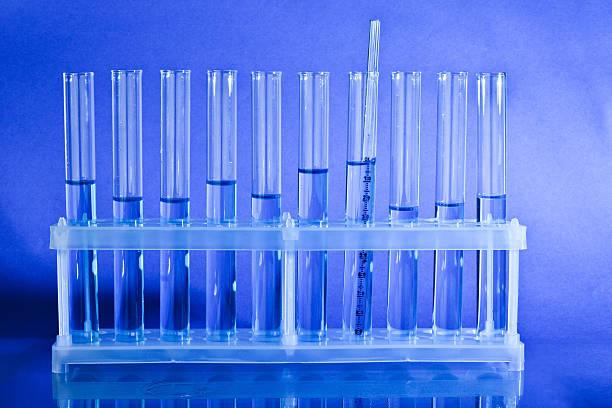Test tube: (349, 59, 507, 331), (54, 54, 104, 338), (153, 42, 194, 342), (245, 59, 283, 343), (296, 61, 334, 333), (201, 58, 234, 339), (113, 50, 141, 347)
